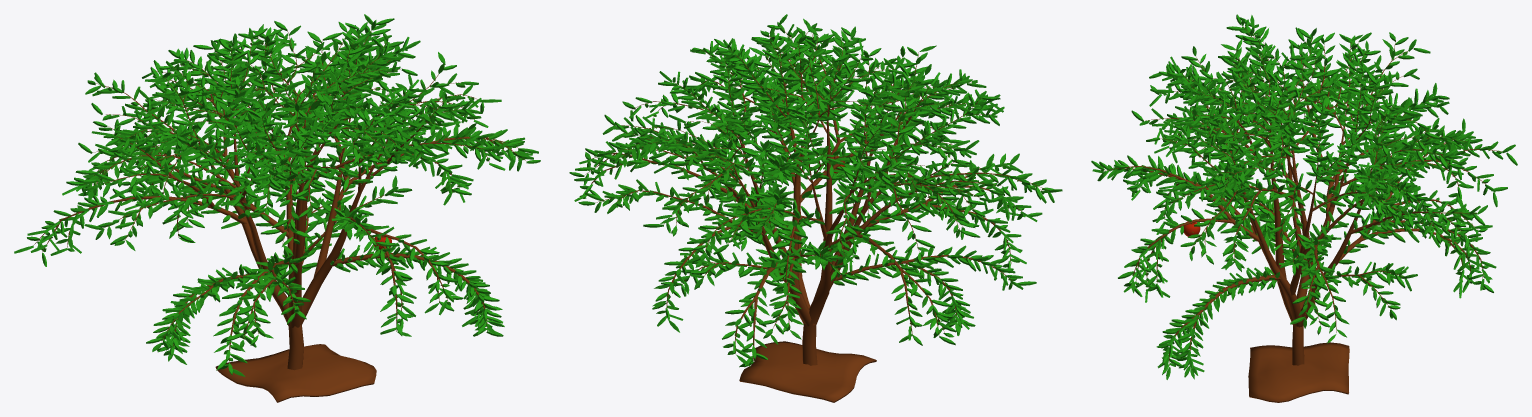
The model's file is apple.fbx.
3 renders of one model, left to right at view 1: azimuth 30°, elevation 25°; view 2: azimuth 150°, elevation 25°; view 3: azimuth 270°, elevation 25°, orthographic. The views are drawn at different scales.
Parts seen in each view (by area): view 1: Plane, tree; view 2: Plane, tree; view 3: Plane, tree.
Boxes of the visible parts, x1,y1,x2,y2 form: Plane: [14, 14, 540, 402]; tree: [33, 30, 526, 370]; Plane: [569, 14, 1062, 402]; tree: [584, 26, 1046, 365]; Plane: [1091, 14, 1517, 402]; tree: [1105, 26, 1501, 365].
Size of the model in its own units: 962 by 652 by 799.
